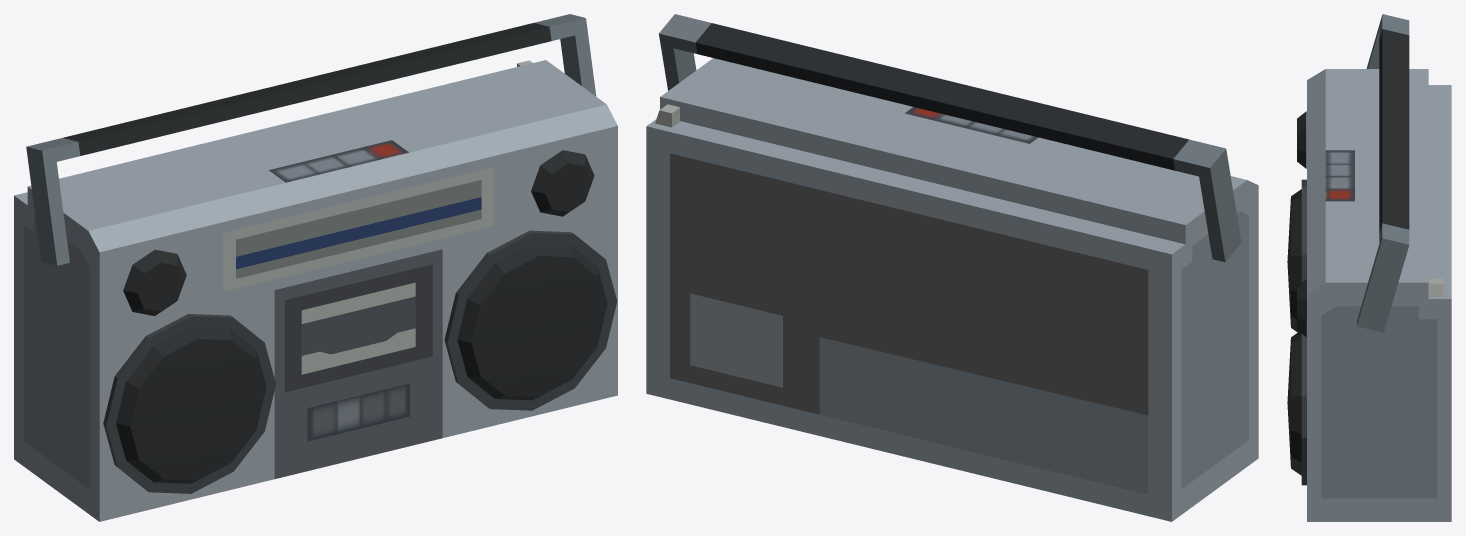
Rendered from SM_Prop_Music_Boombox_01.obj.
3 views of the same model, side by side, from view 1: azimuth 30°, elevation 25°; view 2: azimuth 150°, elevation 25°; view 3: azimuth 270°, elevation 25° (orthographic). The views are drawn at different scales.
Visible parts, largest first — view 1: SM_Prop_Music_Boombox_01_0; view 2: SM_Prop_Music_Boombox_01_0; view 3: SM_Prop_Music_Boombox_01_0.
Boxes of the visible parts, x1,y1,x2,y2 form: SM_Prop_Music_Boombox_01_0: (14,14,617,521); SM_Prop_Music_Boombox_01_0: (646,14,1258,521); SM_Prop_Music_Boombox_01_0: (1287,14,1451,521).
Bounding box in the file's own units: 0.8694 × 0.5219 × 0.2687.
Materials: 1 (1 with a texture image).
